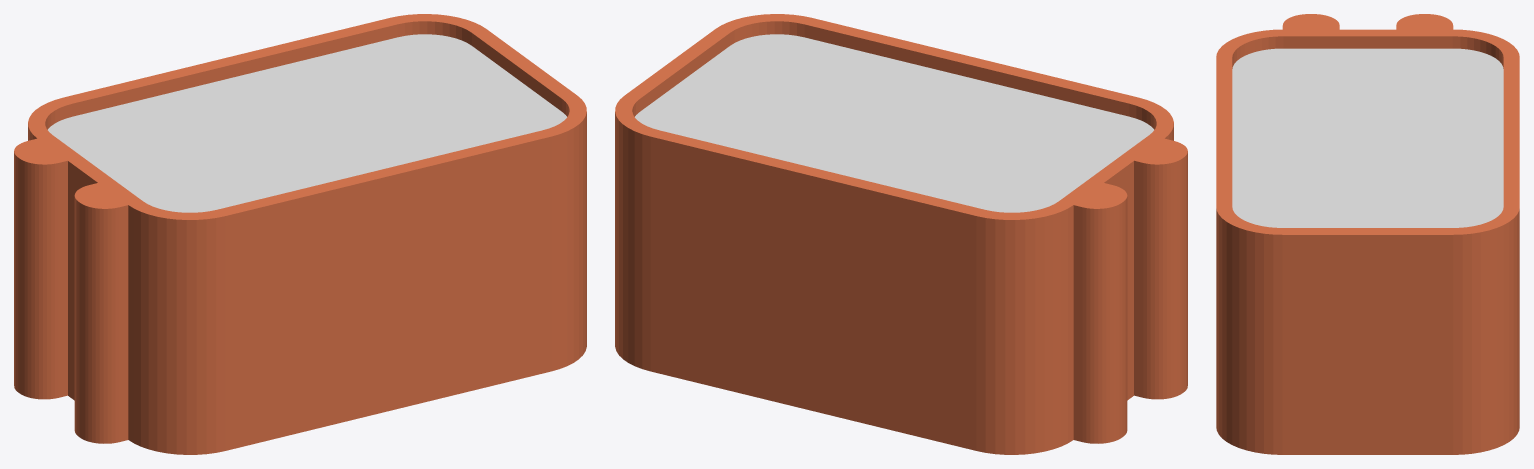
File: BoardTest.fbx
The picture shows the model from 3 angles, left to right: view 1: azimuth 30°, elevation 25°; view 2: azimuth 150°, elevation 25°; view 3: azimuth 270°, elevation 25°; orthographic projection. The views are drawn at different scales.
Parts seen in each view (by area): view 1: Cube; view 2: Cube; view 3: Cube.
Boxes of the visible parts, box(x1,y1,x2,y2) form: Cube: box(14, 14, 586, 454); Cube: box(615, 14, 1187, 454); Cube: box(1216, 14, 1519, 454).
Size of the model in its own units: 430 by 200 by 250.
